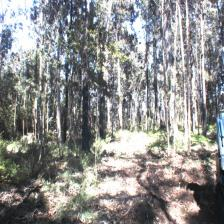trunktrack_idkeyframe: (80, 97, 90, 142), (202, 84, 208, 135)
